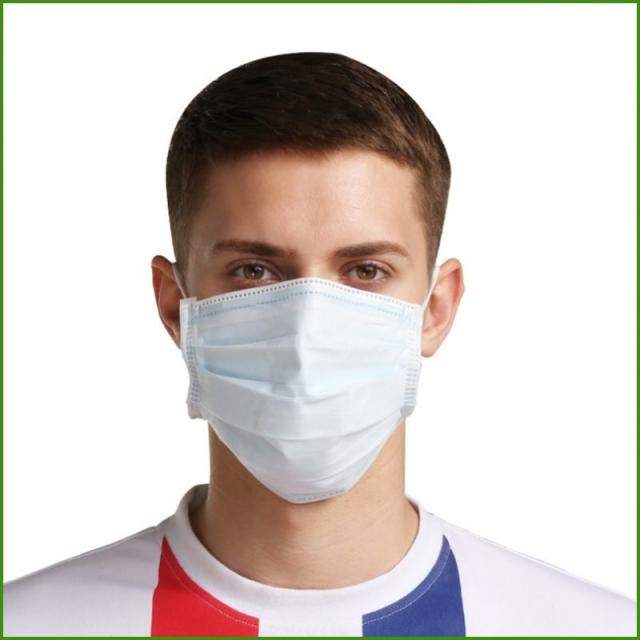mask: (177, 145, 426, 498)
